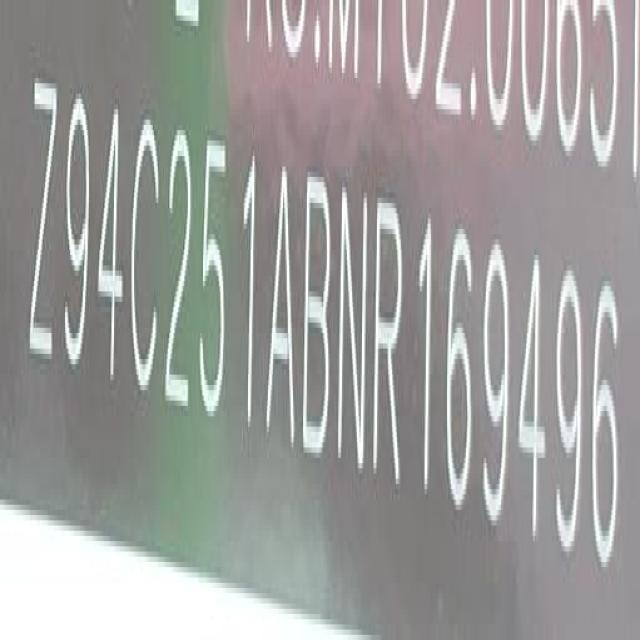1: (238, 151, 258, 438), (418, 204, 436, 496)
2: (165, 121, 196, 412)
4: (520, 252, 548, 548), (98, 97, 126, 389)
5: (200, 128, 228, 424)
6: (447, 229, 478, 515), (594, 279, 623, 578)
9: (553, 268, 585, 566), (482, 240, 512, 532), (62, 88, 90, 382)
A: (268, 165, 298, 452)
B: (304, 170, 334, 459)
C: (130, 118, 160, 403)
N: (340, 184, 369, 473)
R: (376, 191, 408, 490)
Z: (27, 80, 59, 375)
